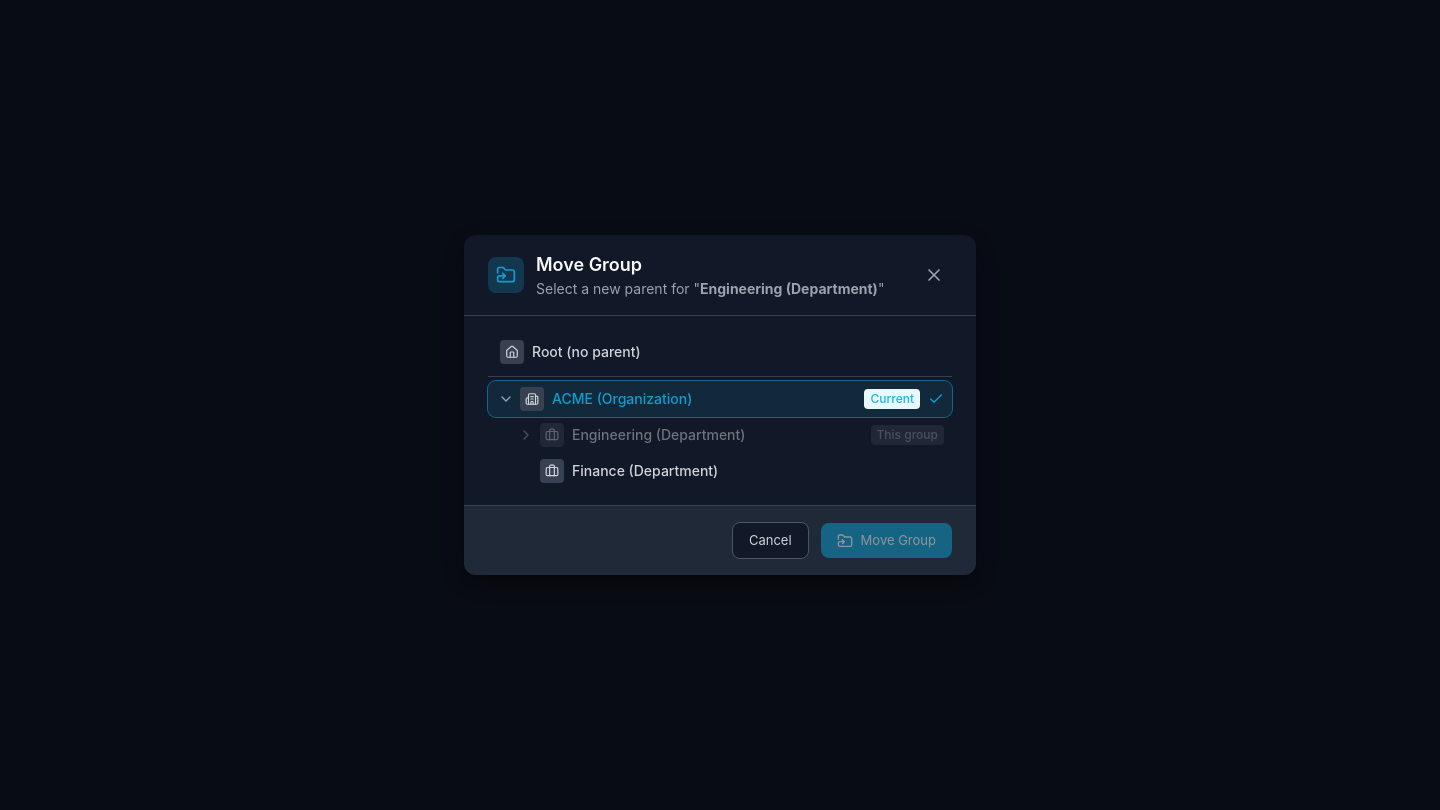
Test case: MoveGroupModal — the cycle guard › strikes out its descendants, labelled as descendants
This screenshot has width=1440, height=810.
expect the 2nd text "Engineering (Department)" is shown: met, box left=572, top=426, right=746, bottom=443
Click the 2nd element with class "cursor-pointer" at x=526, y=435, box left=518, top=427, right=534, bottom=443
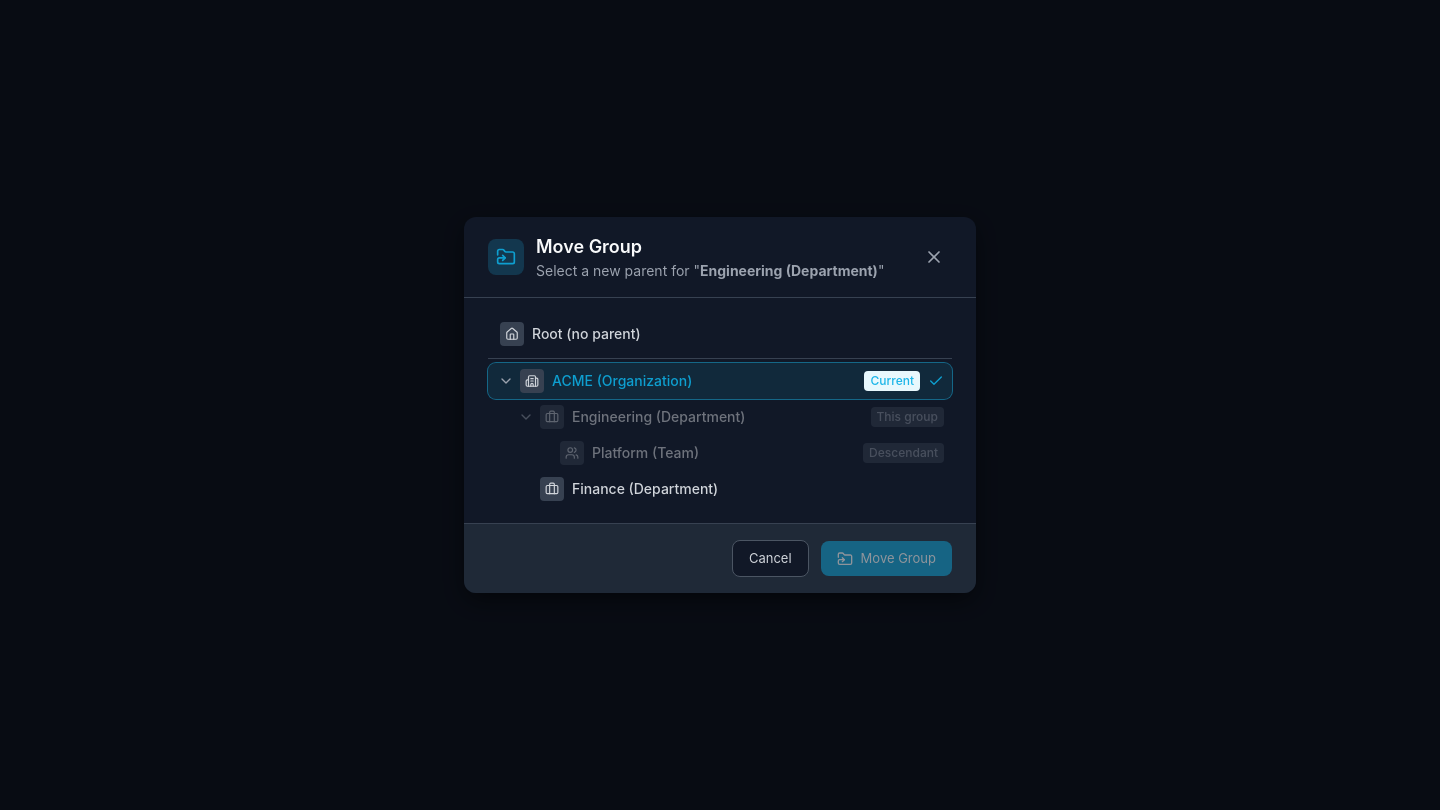
expect the text "Platform (Team)" is shown: met, box left=592, top=444, right=699, bottom=461
expect the button "Platform (Team) Descendant" is disabled: met, box left=488, top=435, right=952, bottom=471
expect the button "Platform (Team) Descendant" is shown: met, box left=488, top=435, right=952, bottom=471
